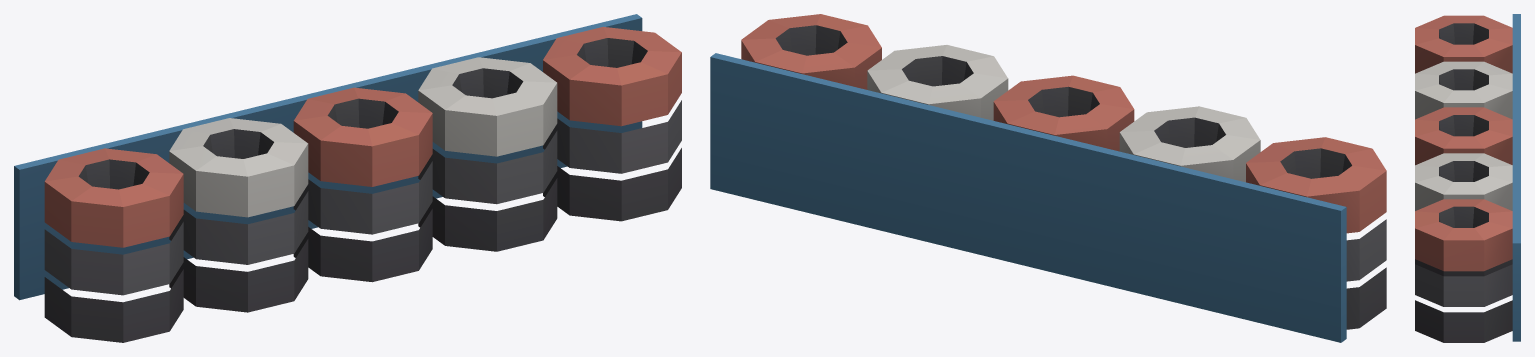
Rendered from tyrewall.lod1.glb.
3 renders of one model, left to right at view 1: azimuth 30°, elevation 25°; view 2: azimuth 150°, elevation 25°; view 3: azimuth 270°, elevation 25°, orthographic. The views are drawn at different scales.
Bounding box in the file's own units: 4 × 0.854 × 0.7803.
